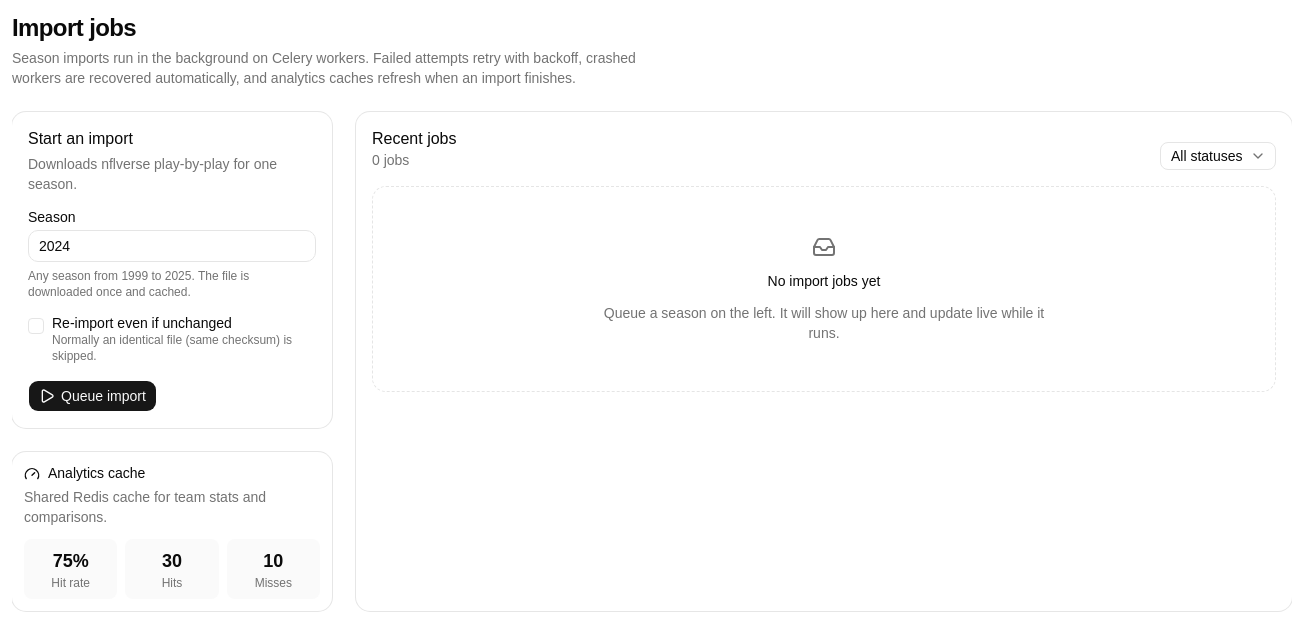
Scenario: JobsPage › validates the season before submitting
Replace the text in the number field labelled "Season" with "1990" at (172, 246), box [28,230,316,262]
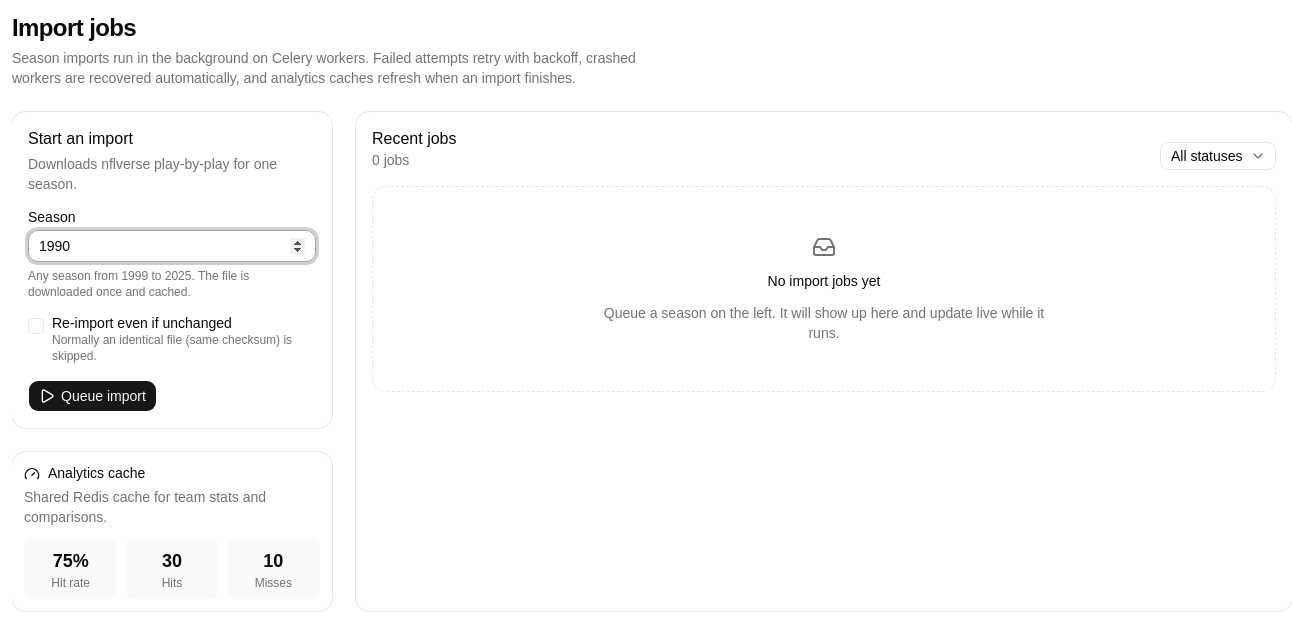
Click the button "Queue import" at (92, 396), box [28,380,157,412]
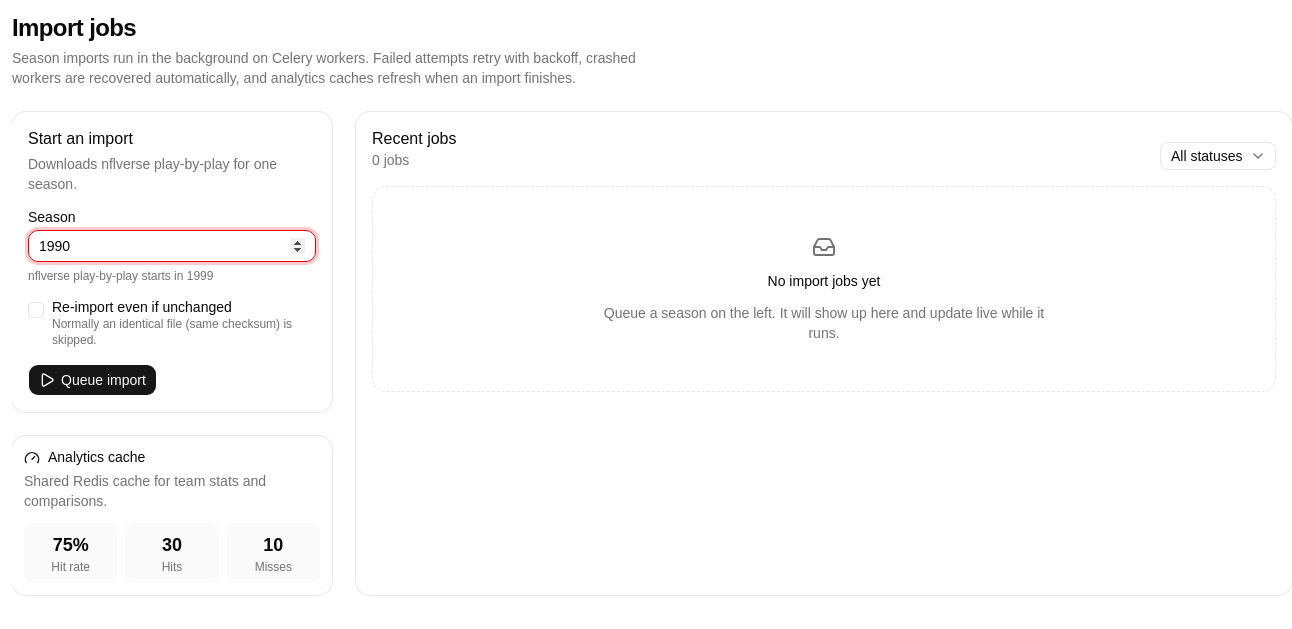
Check: the text "nflverse play-by-play starts in 1999" is shown, box [28,269,213,283]
